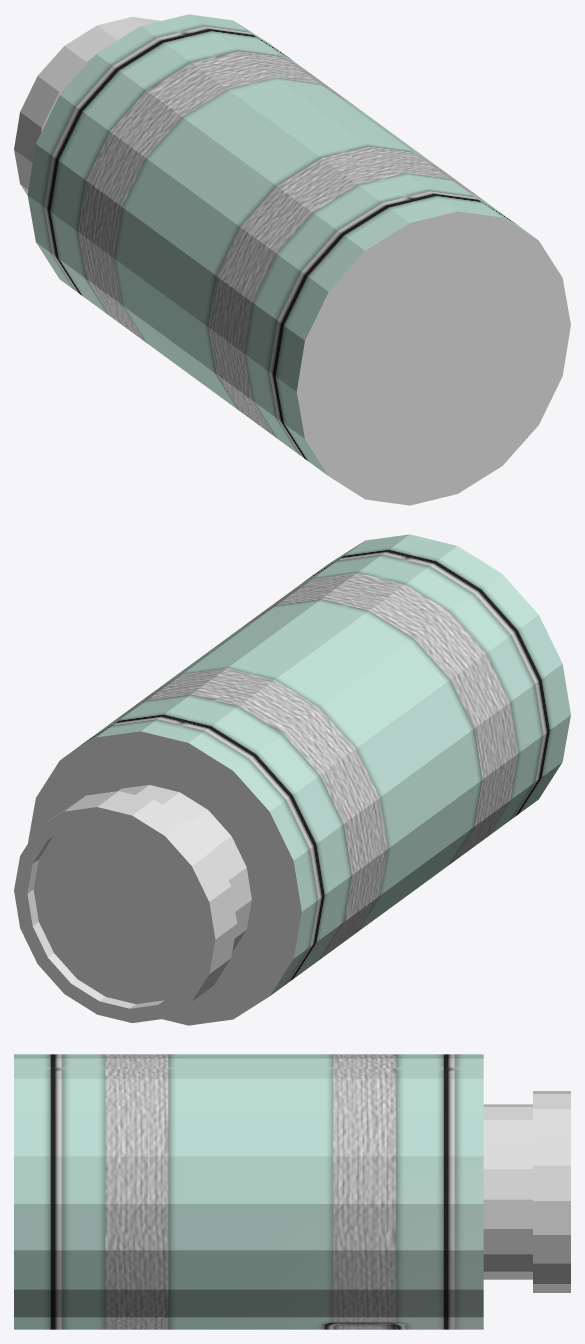
The model's file is ISS_INT_props_Bonbonne.FBX.
The picture shows the model from 3 angles, top to bottom: view 1: azimuth 30°, elevation 25°; view 2: azimuth 150°, elevation 25°; view 3: azimuth 270°, elevation 25°; orthographic projection. The views are drawn at different scales.
Parts seen in each view (by area): view 1: Object001; view 2: Object001; view 3: Object001.
Boxes of the visible parts, <box> form: Object001: <box>14,14,570,505</box>; Object001: <box>14,534,570,1025</box>; Object001: <box>14,1054,570,1329</box>.
Size of the model in its own units: 0.0156 by 0.0153 by 0.0314.
